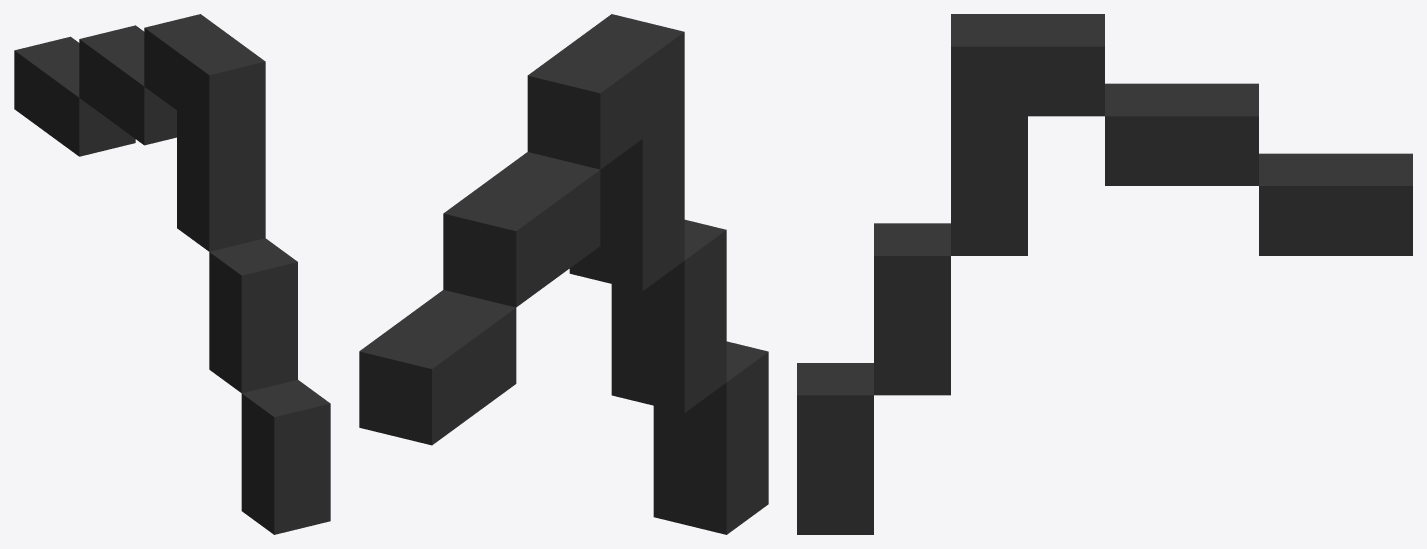
File: SpiderTestLeg.dae
3 renders of one model, left to right at view 1: azimuth 30°, elevation 25°; view 2: azimuth 150°, elevation 25°; view 3: azimuth 270°, elevation 25°, orthographic. The views are drawn at different scales.
Parts seen in each view (by area): view 1: SpiderTestLeg; view 2: SpiderTestLeg; view 3: SpiderTestLeg.
Part boxes in pixels (x1,y1,x2,y2): SpiderTestLeg: [14, 14, 330, 534]; SpiderTestLeg: [359, 14, 768, 534]; SpiderTestLeg: [797, 14, 1412, 534].
Bounding box in the file's own units: 0.1 × 0.8 × 0.7.
Materials: 1 (1 with a texture image).
